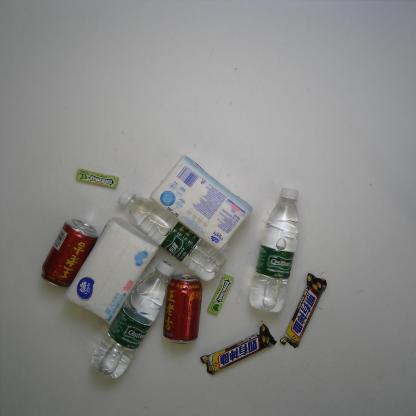Chocolate: (200, 323, 282, 375), (278, 270, 328, 348)
Drink: (89, 256, 176, 379), (117, 188, 226, 282), (249, 186, 301, 314), (40, 217, 100, 289), (161, 271, 204, 346)
Gum: (207, 272, 235, 316), (75, 167, 122, 188)
Tissue: (62, 216, 161, 327), (148, 155, 254, 252)
